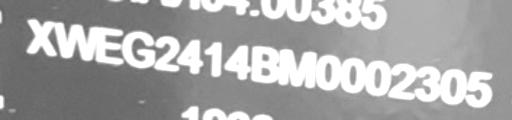letter: (52, 20, 98, 63), (277, 45, 317, 90), (122, 28, 156, 71), (23, 17, 59, 56), (248, 44, 280, 84), (94, 25, 124, 67), (222, 41, 252, 83), (464, 65, 494, 106), (175, 37, 205, 77), (386, 61, 416, 100), (412, 62, 442, 101), (439, 66, 469, 105), (152, 34, 180, 74), (314, 52, 342, 91), (364, 58, 392, 97), (340, 56, 366, 94), (202, 38, 224, 80)
